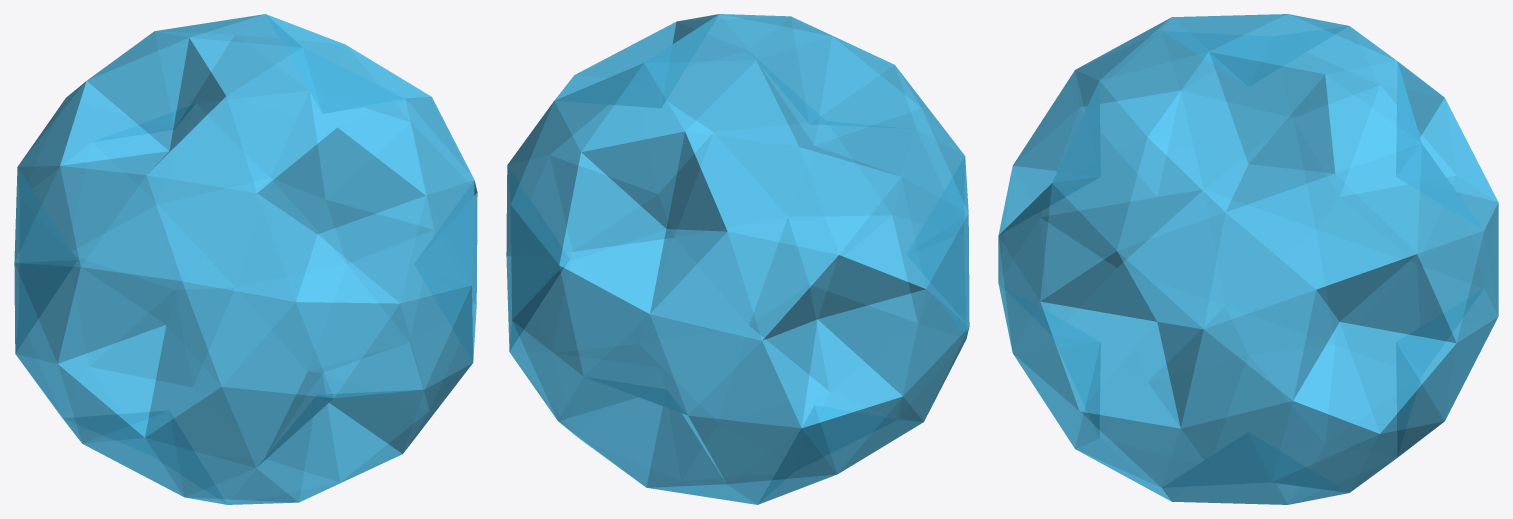
File: 10_Dodekexcavated_Snub_Icosidodecahedron.obj
3 views of the same model, side by side, from view 1: azimuth 30°, elevation 25°; view 2: azimuth 150°, elevation 25°; view 3: azimuth 270°, elevation 25° (orthographic). The views are drawn at different scales.
Size of the model in its own units: 4.19 by 4.19 by 4.19.
